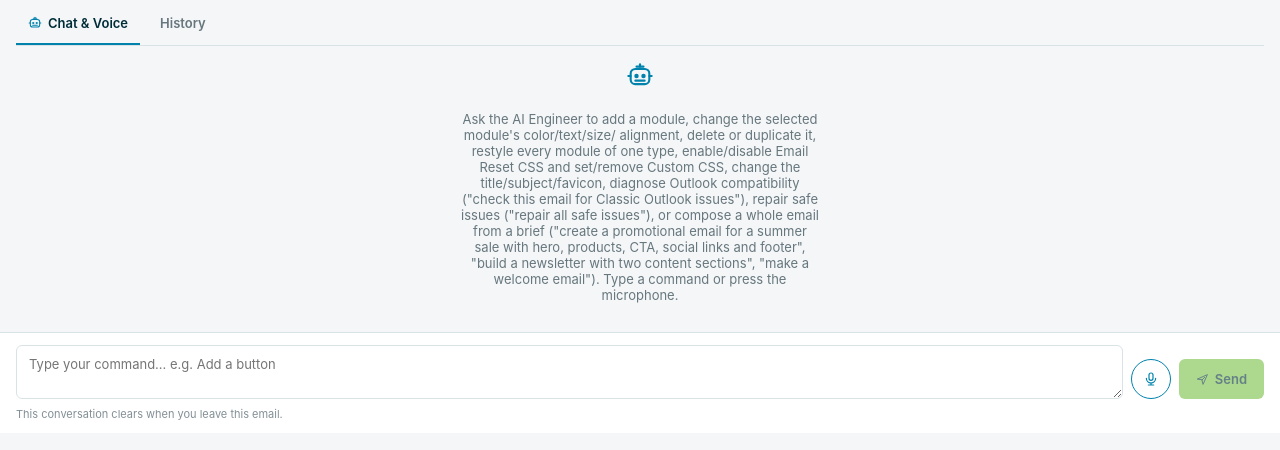
Test: AIEngineerPanel › clicking the mic button starts listening, and the transcript fills the composer
This screenshot has width=1280, height=450.
Click the button named "Talk to the AI Engineer".
click(1151, 379)  # box [1131,359,1171,399]
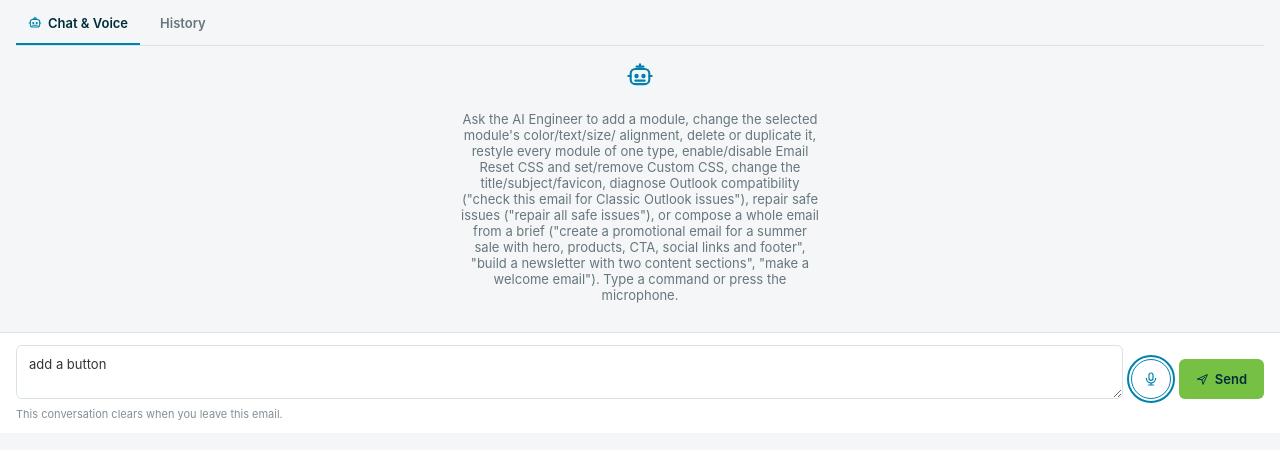
Check: the text box with placeholder "Type your command… e.g. Add a button" holds "add a button", box [16,345,1123,399]
